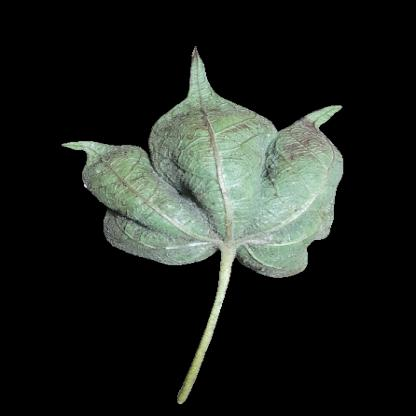curl_stage2: (204, 180, 308, 256), (211, 129, 284, 187), (296, 162, 337, 210), (260, 244, 305, 275)
sooty: (92, 148, 163, 216), (108, 214, 203, 263), (155, 122, 197, 193), (285, 130, 334, 159)
